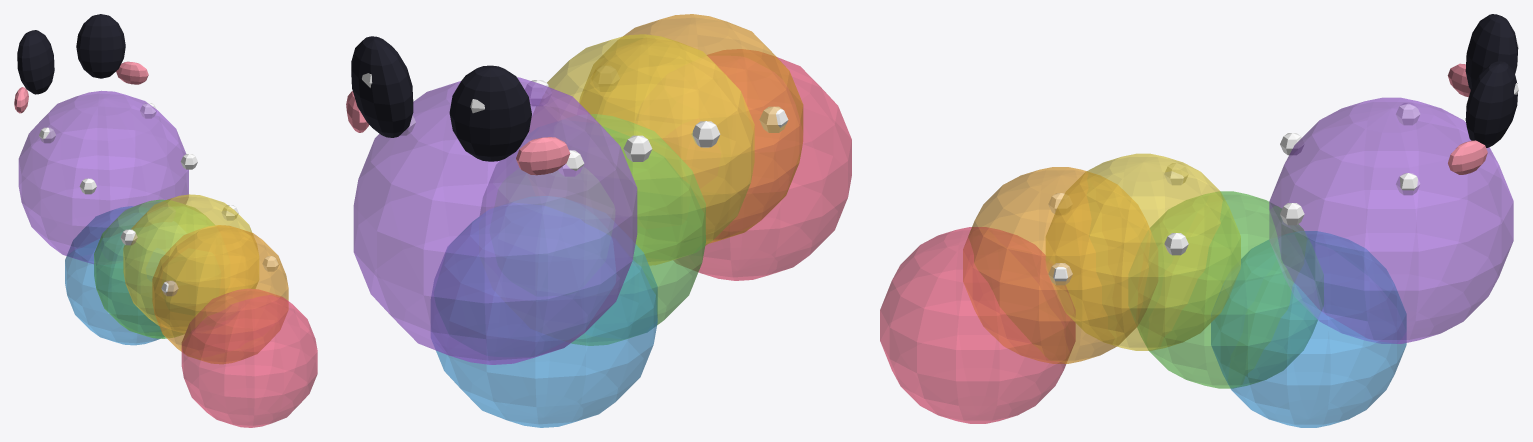
The model's file is GummyWorm.fbx.
3 views of the same model, side by side, from view 1: azimuth 30°, elevation 25°; view 2: azimuth 150°, elevation 25°; view 3: azimuth 270°, elevation 25° (orthographic). The views are drawn at different scales.
Parts seen in each view (by area): view 1: Pet_B06AF0_Glass, Pet_FF4F7A_Glass, Pet_FFB02E_Glass, Pet_FFE84A_Glass, Pet_6FD65A_Glass, Pet_4FB8FF_Glass, Pet_1E1E2A, Pet_FFFFFF, Pet_FF9AAE; view 2: Pet_B06AF0_Glass, Pet_4FB8FF_Glass, Pet_FFB02E_Glass, Pet_FFE84A_Glass, Pet_FF4F7A_Glass, Pet_6FD65A_Glass, Pet_1E1E2A, Pet_FFFFFF, Pet_FF9AAE; view 3: Pet_B06AF0_Glass, Pet_FFB02E_Glass, Pet_FF4F7A_Glass, Pet_FFE84A_Glass, Pet_4FB8FF_Glass, Pet_6FD65A_Glass, Pet_1E1E2A, Pet_FFFFFF, Pet_FF9AAE.
Part boxes in pixels (x1,y1,x2,y2): Pet_B06AF0_Glass: (18,90,188,263); Pet_FF4F7A_Glass: (181,289,317,427); Pet_FFB02E_Glass: (152,225,288,363); Pet_FFE84A_Glass: (123,194,258,332); Pet_6FD65A_Glass: (94,199,214,338); Pet_4FB8FF_Glass: (65,206,164,345); Pet_1E1E2A: (17,14,125,94); Pet_FFFFFF: (39,103,279,296); Pet_FF9AAE: (14,61,148,113); Pet_B06AF0_Glass: (353,77,637,364); Pet_4FB8FF_Glass: (431,196,657,427); Pet_FFB02E_Glass: (579,14,803,243); Pet_FFE84A_Glass: (529,34,754,265); Pet_FF4F7A_Glass: (674,49,851,280); Pet_6FD65A_Glass: (480,114,705,345); Pet_1E1E2A: (351,36,531,161); Pet_FFFFFF: (362,66,788,176); Pet_FF9AAE: (346,91,570,175); Pet_B06AF0_Glass: (1269,97,1513,343); Pet_FFB02E_Glass: (963,167,1157,363); Pet_FF4F7A_Glass: (880,227,1075,423); Pet_FFE84A_Glass: (1046,153,1240,350); Pet_4FB8FF_Glass: (1211,231,1406,427); Pet_6FD65A_Glass: (1129,191,1323,388); Pet_1E1E2A: (1465,14,1518,147); Pet_FFFFFF: (1048,41,1518,285); Pet_FF9AAE: (1447,63,1487,174).
Size of the model in its own units: 0.5761 by 1.01 by 1.54.
